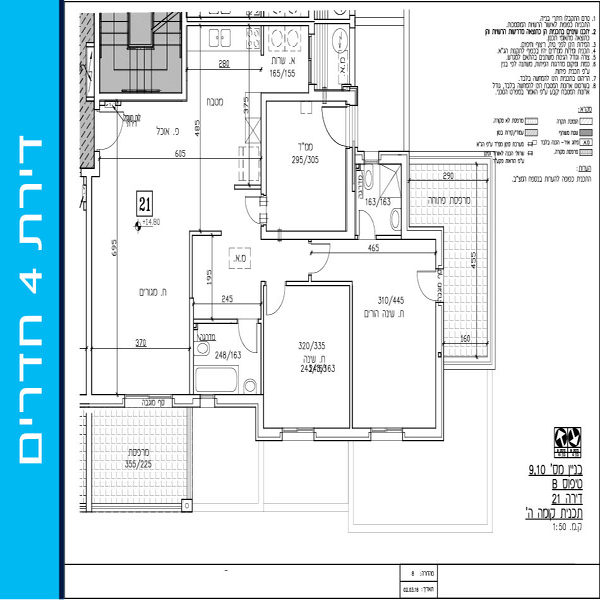door: (316, 104, 362, 145), (95, 109, 134, 147), (416, 269, 448, 304), (307, 242, 336, 278), (243, 194, 274, 224), (263, 284, 290, 317), (357, 209, 379, 244), (237, 323, 259, 355)
room: (257, 87, 356, 245), (258, 284, 355, 443)
wall: (437, 302, 446, 441), (87, 170, 92, 406), (263, 230, 354, 240), (261, 90, 356, 99), (314, 427, 371, 441), (260, 95, 267, 194), (217, 397, 258, 404)
window: (125, 391, 175, 407), (279, 426, 315, 445), (367, 428, 405, 442)
